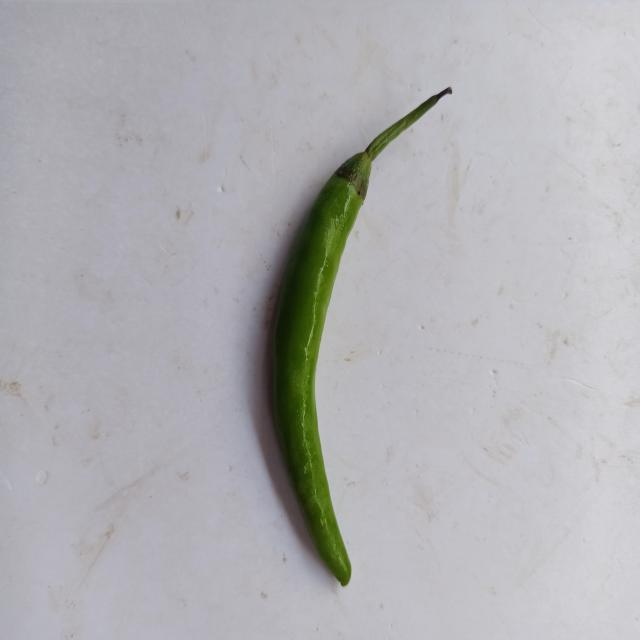Green Chilly: (273, 86, 452, 586)
